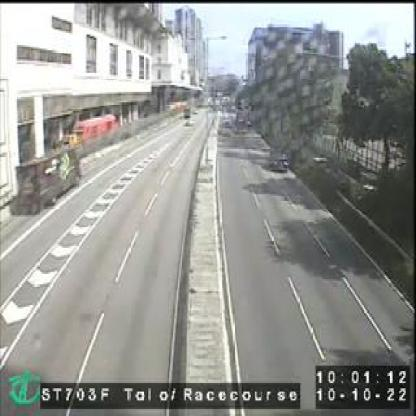Car: (269, 144, 292, 171)
Truck: (14, 146, 81, 217)
